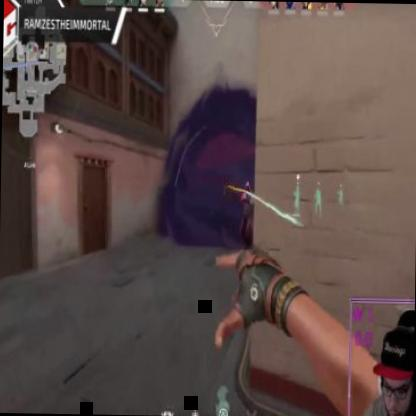enemy: (236, 179, 256, 252)
enemy_head: (244, 182, 250, 196)
